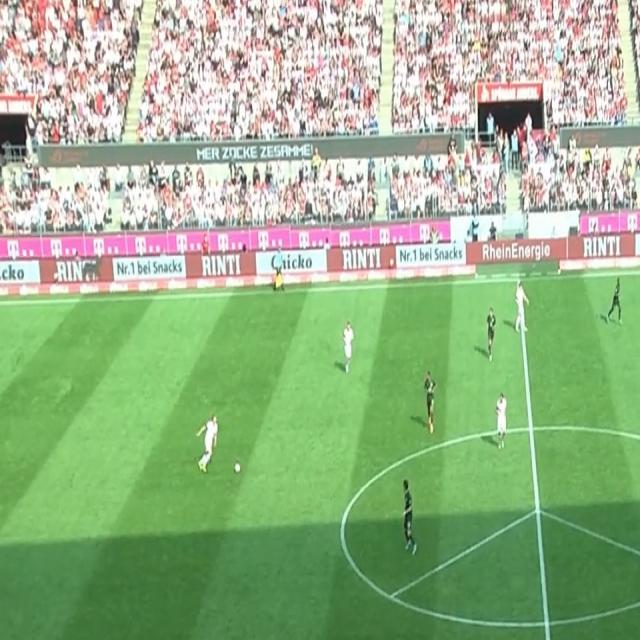ball: (235, 461, 241, 474)
